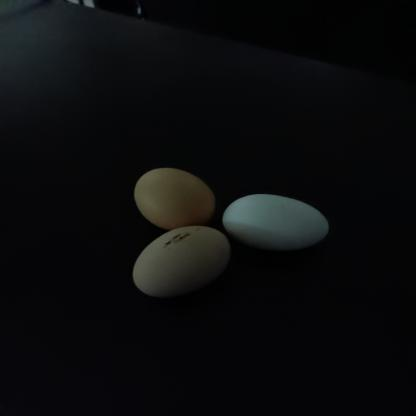egg: (128, 216, 242, 311), (128, 158, 223, 236), (224, 190, 328, 254)
